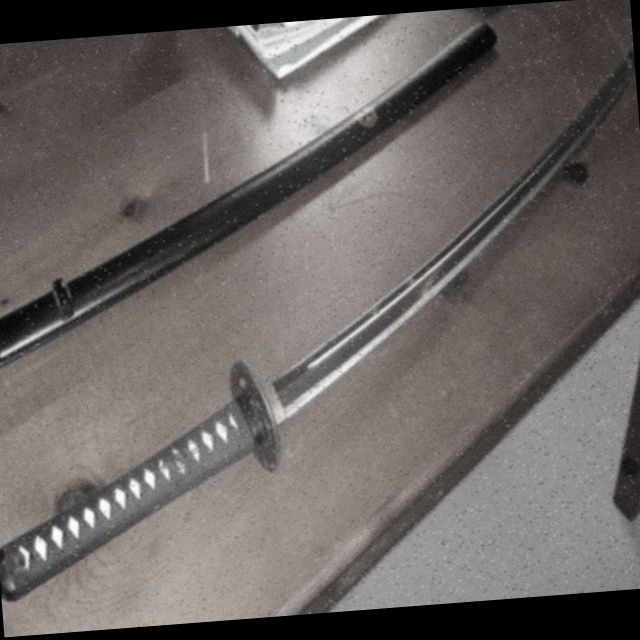Sharp-Object: (0, 47, 640, 611)
